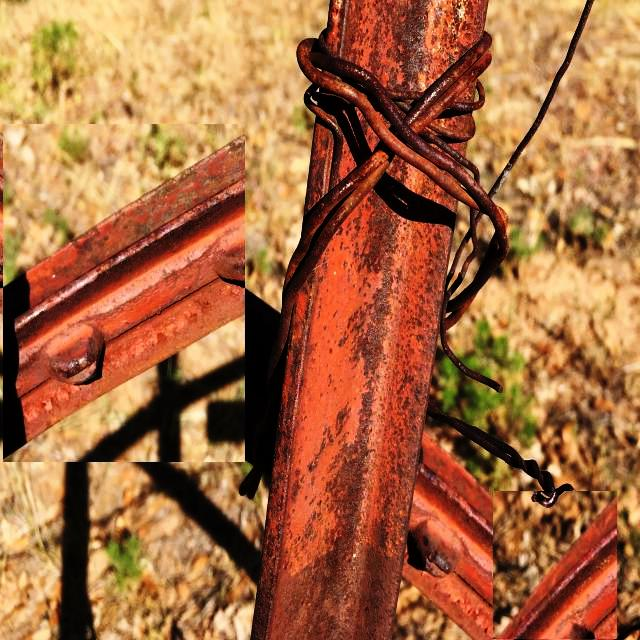Corrosion: (240, 0, 594, 494), (244, 0, 508, 640), (240, 32, 509, 494), (3, 140, 276, 456), (501, 505, 618, 640), (427, 404, 572, 508), (427, 404, 571, 508), (327, 0, 484, 90)
